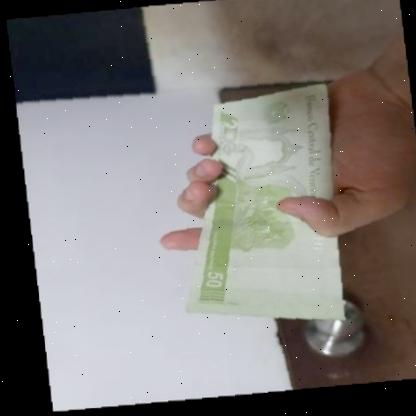fifty-back-vef: (165, 83, 342, 330)
